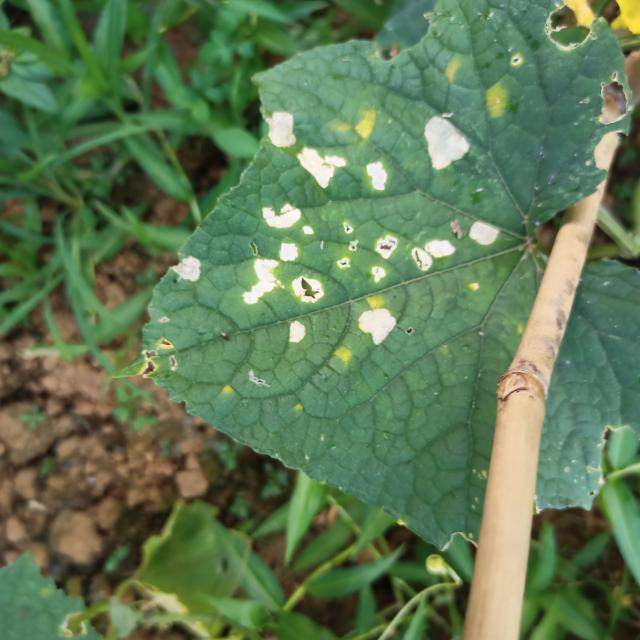disease_cucumber: (246, 202, 458, 351), (420, 110, 471, 173), (328, 106, 387, 140), (297, 146, 344, 188), (262, 106, 296, 148), (483, 78, 512, 123), (465, 220, 503, 250), (172, 256, 208, 286), (363, 159, 392, 195), (440, 54, 467, 86), (330, 345, 356, 367), (364, 292, 386, 308)
